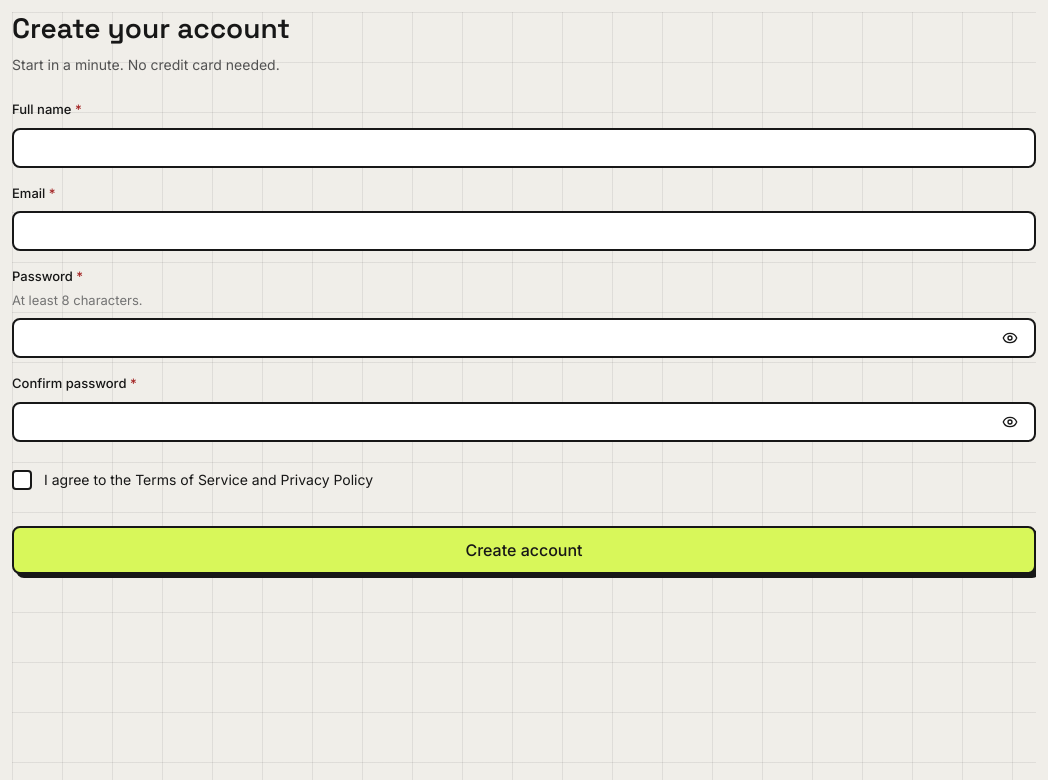
Test: RegisterForm › rejects mismatched passwords
Step 1. Type "Ann Nguyen" into the field labelled "Full name *" → (524, 148), box [26, 130, 1022, 166]
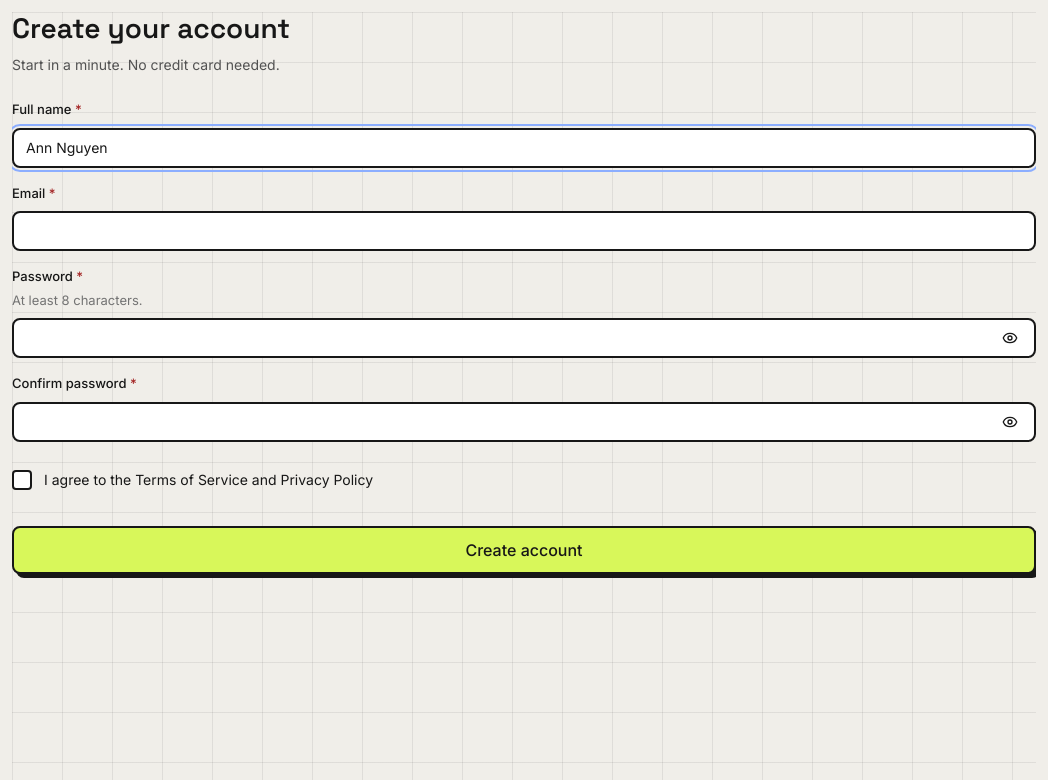
Step 2. Type "ann@example.com" into the field labelled "Email *" → (524, 231), box [26, 213, 1022, 249]
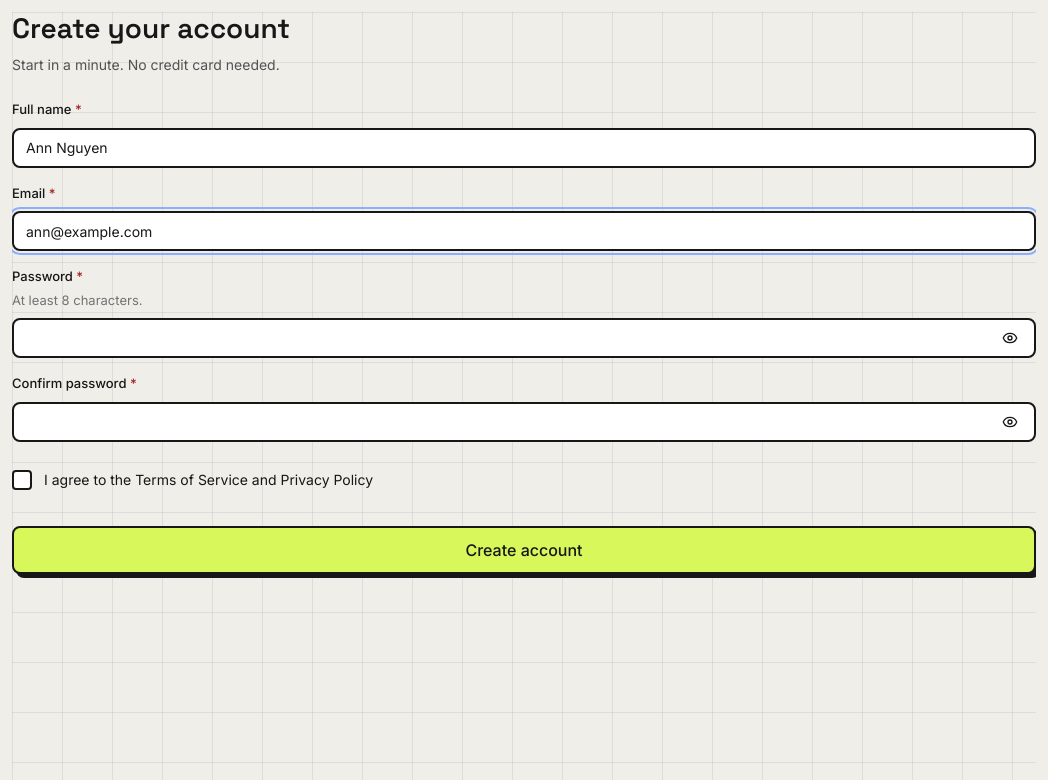
Step 3. Type "supersecret" into the password field labelled "Password *" → (508, 338), box [26, 320, 990, 356]
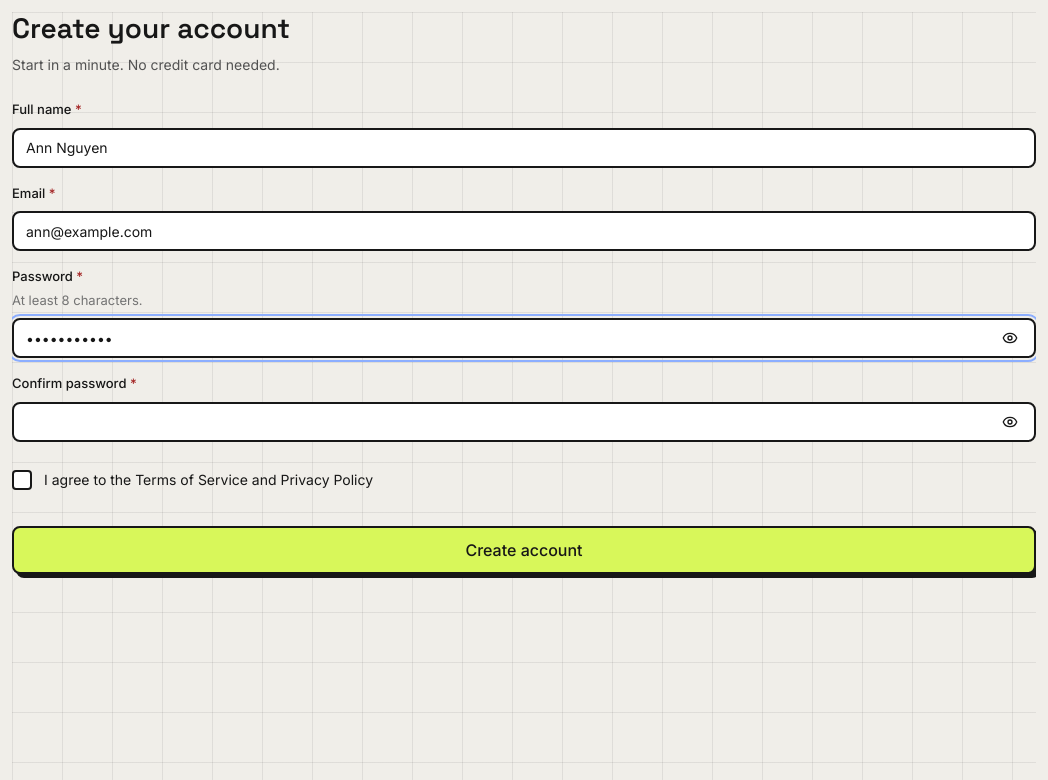
Step 4. Type "different" into the password field labelled "Confirm password *" → (508, 422), box [26, 404, 990, 440]
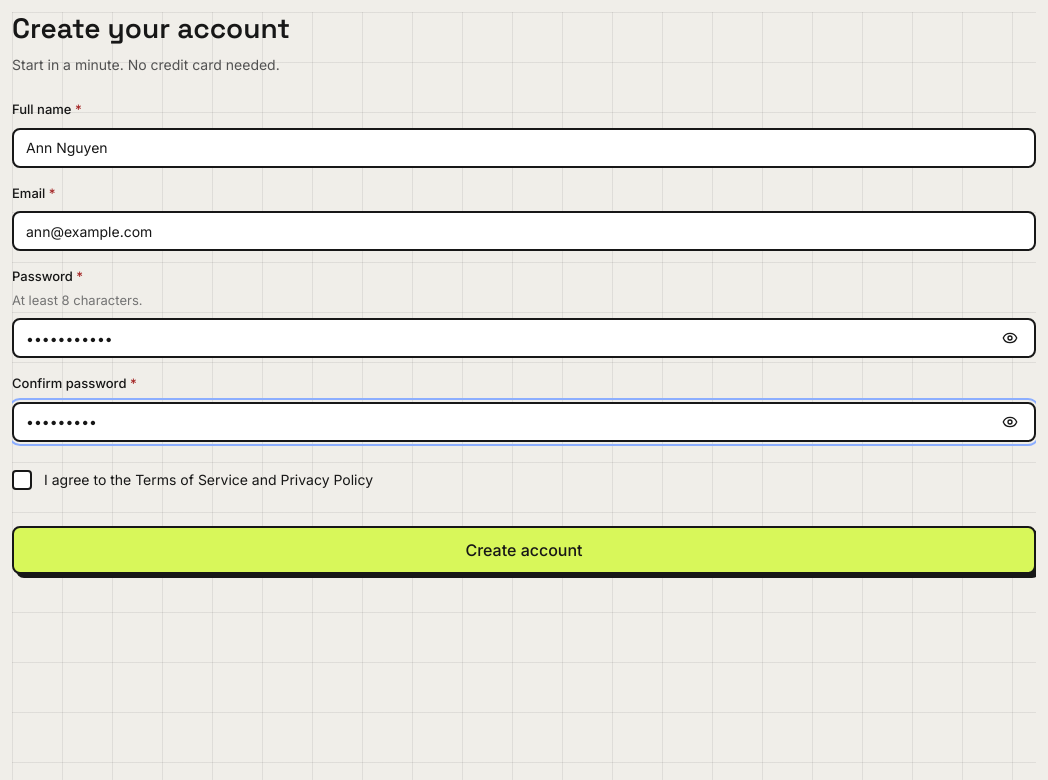
Step 5. Click the checkbox → (193, 480), box [12, 470, 373, 490]
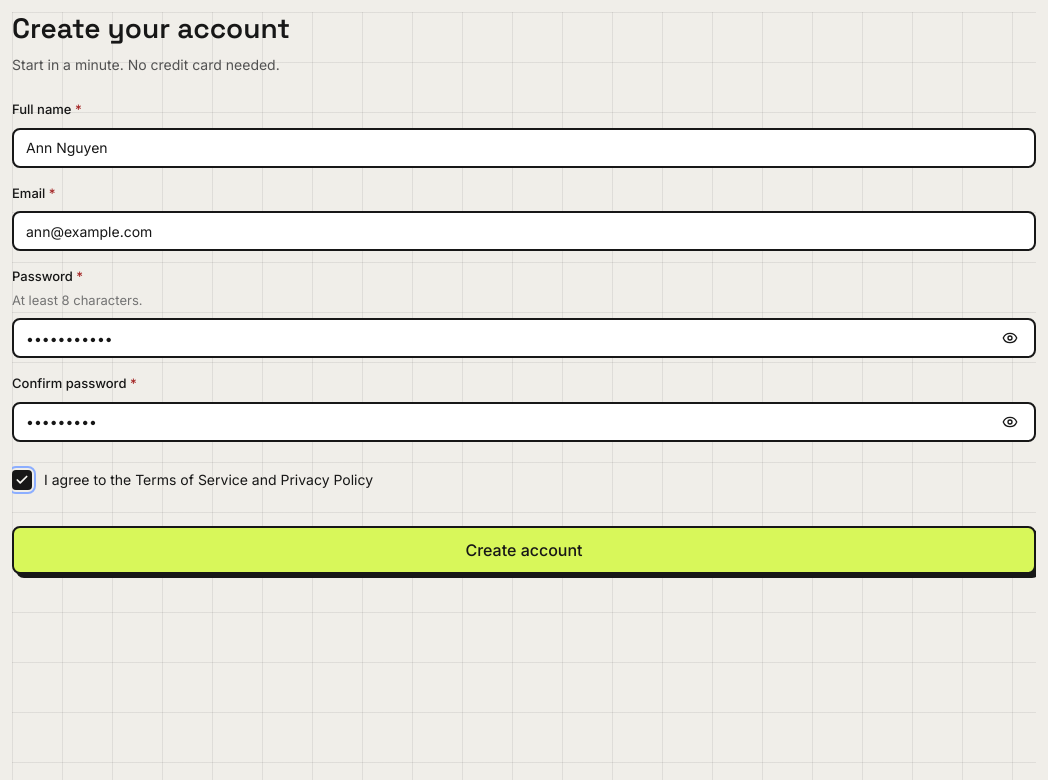
Step 6. Click the button "Create account" → (524, 550), box [12, 526, 1036, 574]
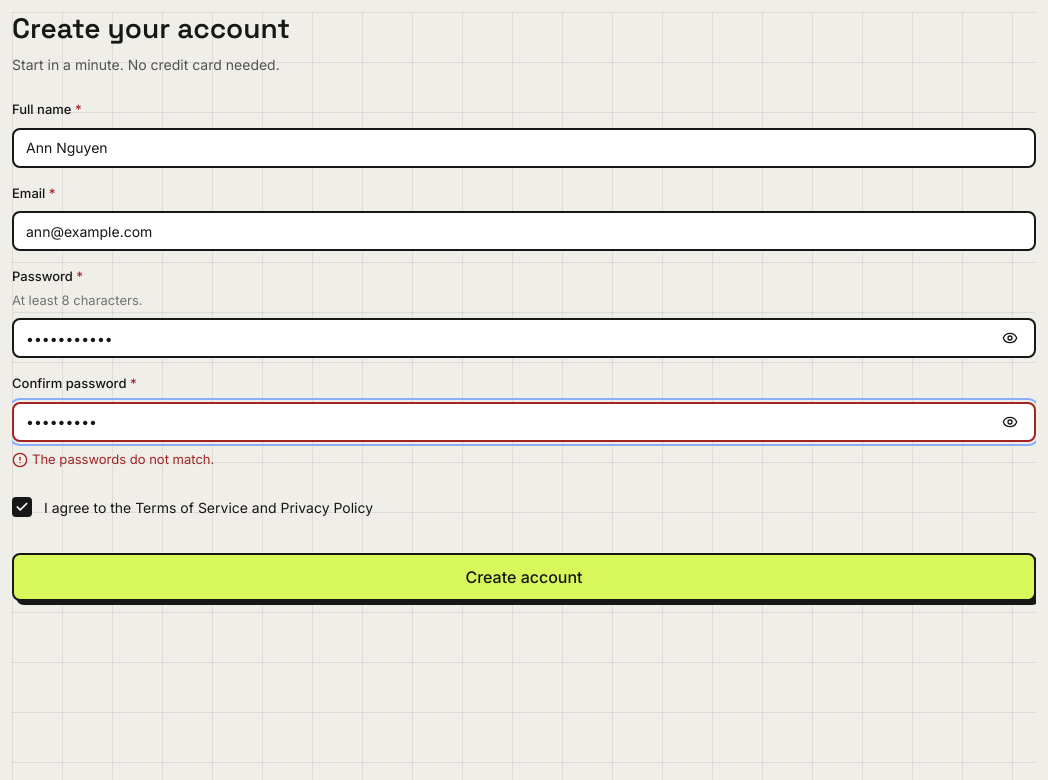
Expected: the text "The passwords do not match." is shown, [32, 450, 214, 469]
